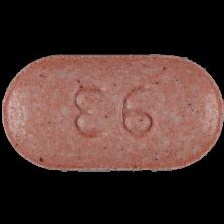68258-6100: (0, 0, 224, 224)
